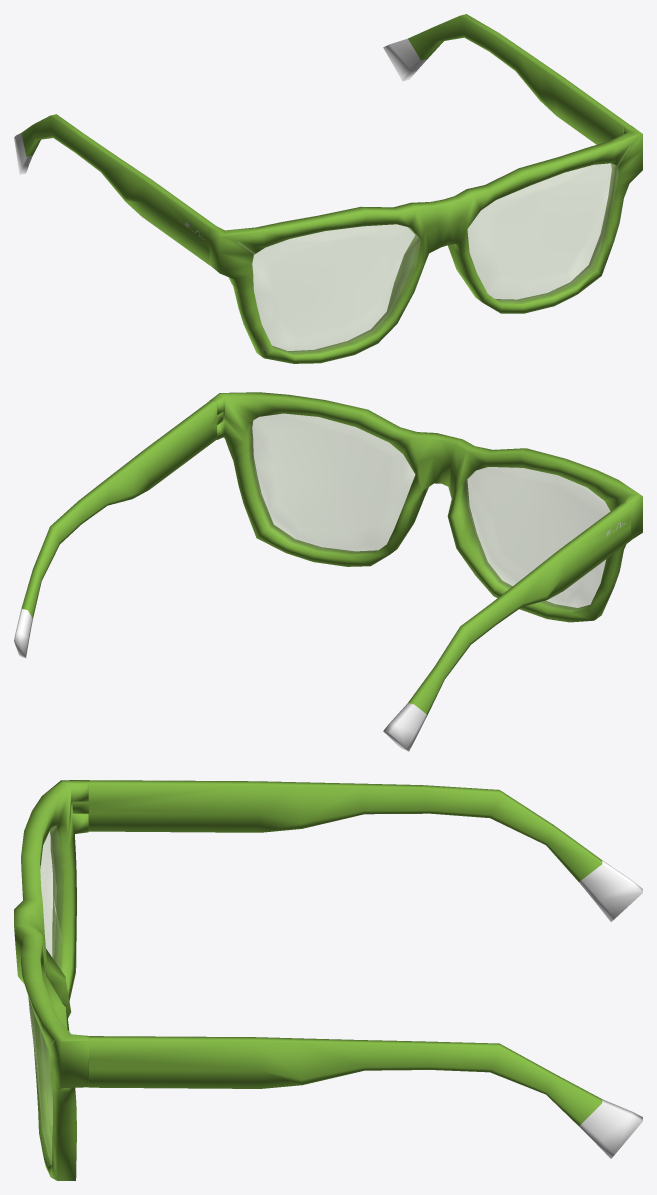
File: CoolGlasses.glb
The picture shows the model from 3 angles, top to bottom: view 1: azimuth 30°, elevation 25°; view 2: azimuth 150°, elevation 25°; view 3: azimuth 270°, elevation 25°; orthographic projection. The views are drawn at different scales.
Visible parts, largest first — view 1: Plane.002, Plane.001, Plane, Plane.004; view 2: Plane.002, Plane.001, Plane, Plane.004; view 3: Plane, Plane.001, Plane.002, Plane.004.
Part boxes in pixels (left/top/right/bottom): Plane.002: left=237, top=145, right=630, bottom=354; Plane.001: left=209, top=125, right=642, bottom=363; Plane: left=21, top=14, right=630, bottom=265; Plane.004: left=14, top=38, right=427, bottom=174; Plane.002: left=249, top=414, right=610, bottom=611; Plane.001: left=209, top=392, right=642, bottom=622; Plane: left=21, top=400, right=631, bottom=714; Plane.004: left=14, top=608, right=427, bottom=751; Plane: left=72, top=780, right=602, bottom=1125; Plane.001: left=14, top=780, right=89, bottom=1180; Plane.002: left=28, top=826, right=63, bottom=1170; Plane.004: left=579, top=860, right=642, bottom=1158.
Bounding box in the file's own units: 0.1472 × 0.0496 × 0.1495.
